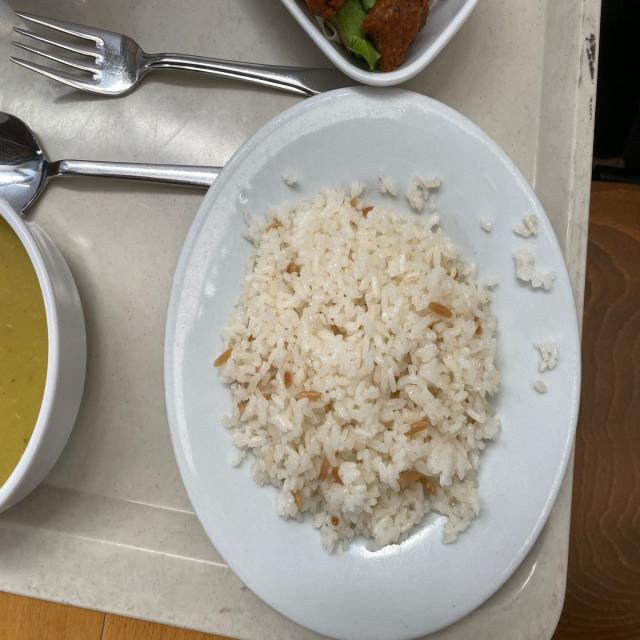ana_yemek: (182, 87, 570, 638)
corba: (0, 182, 87, 517)
yan_yemek: (279, 0, 475, 84)
